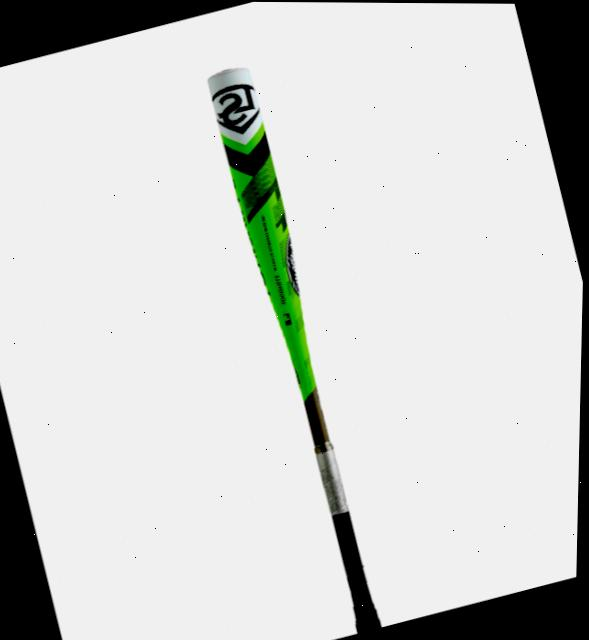baseball bat: (114, 42, 442, 640)
